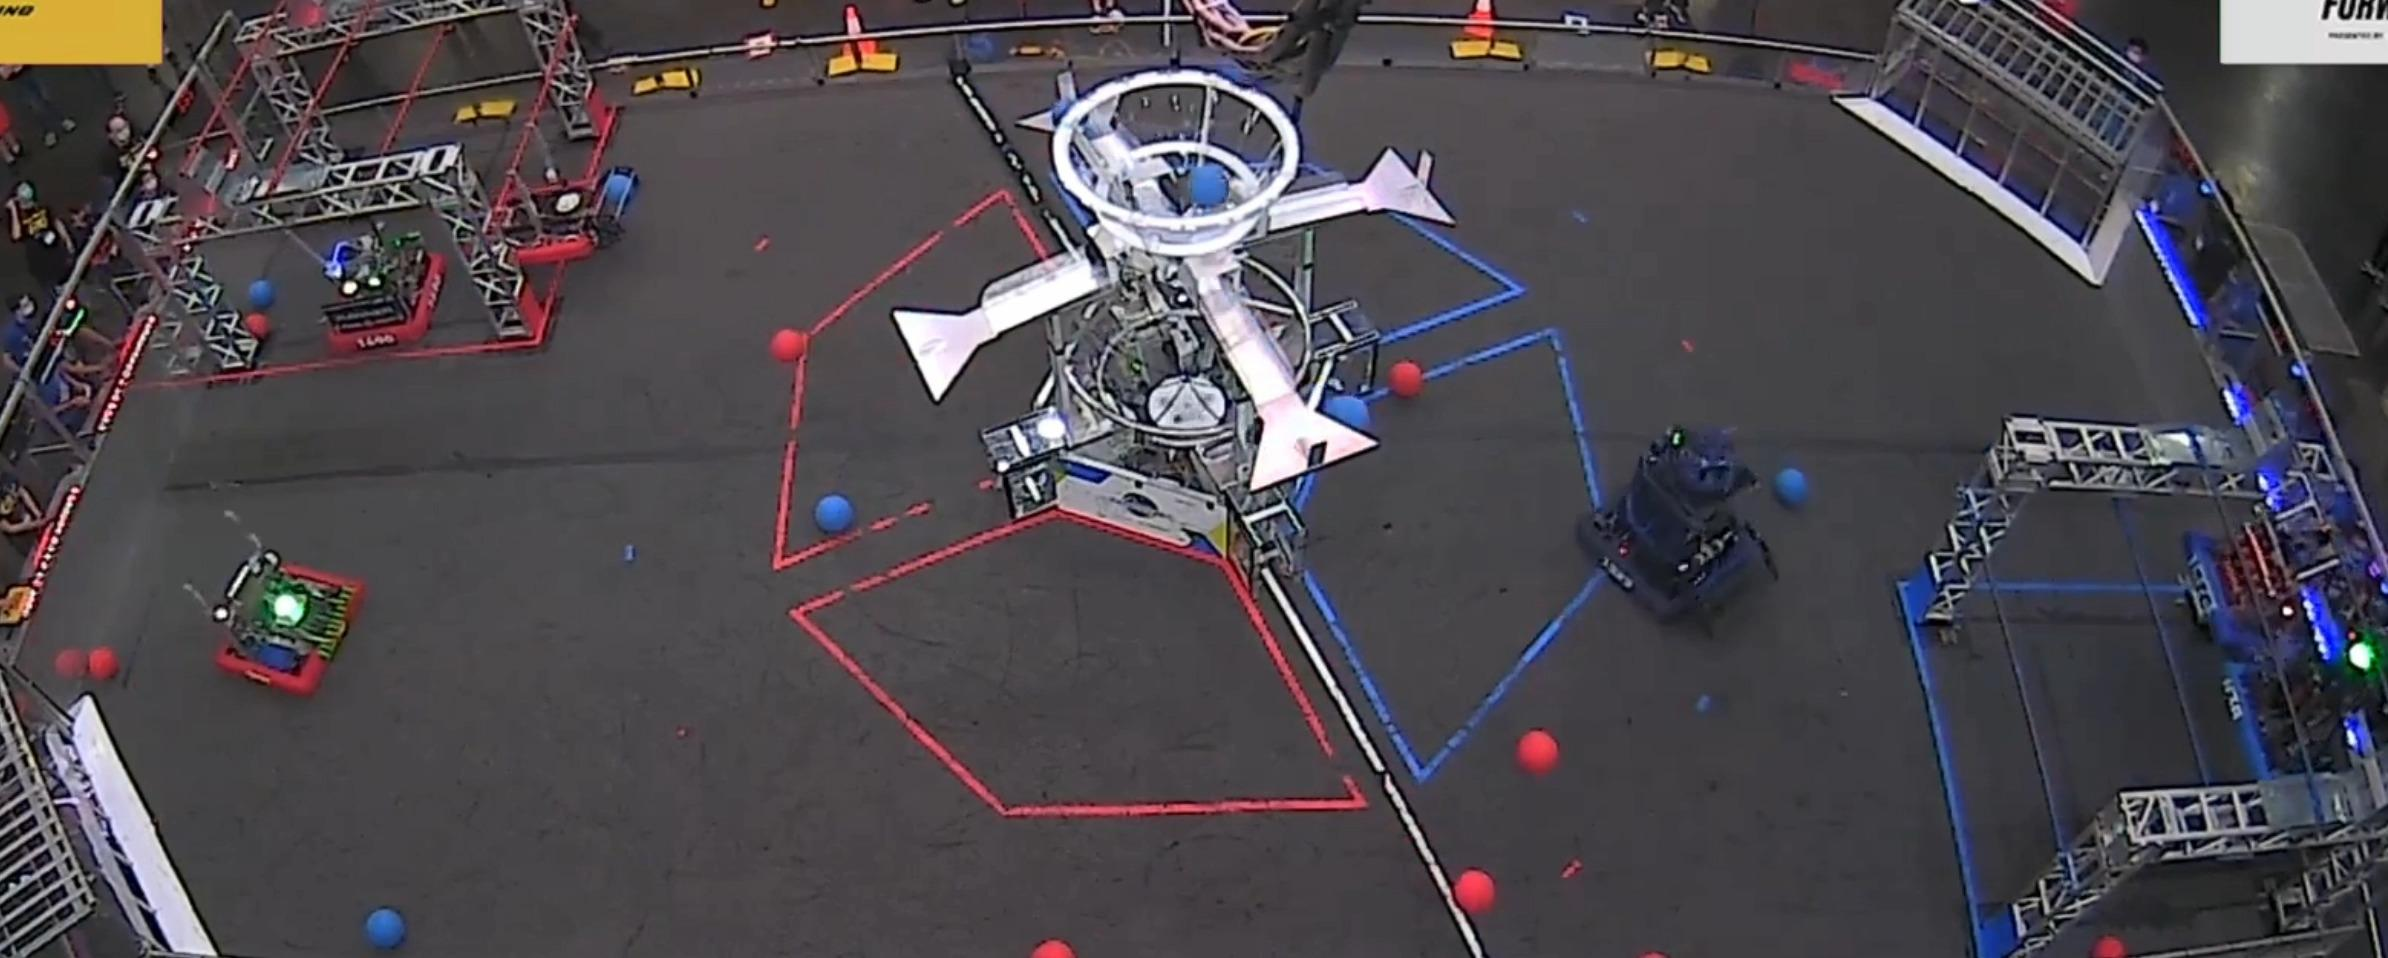Robots: (1576, 398, 1779, 637), (2179, 490, 2388, 632), (193, 518, 359, 695), (2185, 638, 2388, 780), (317, 219, 445, 350), (503, 152, 640, 265)
